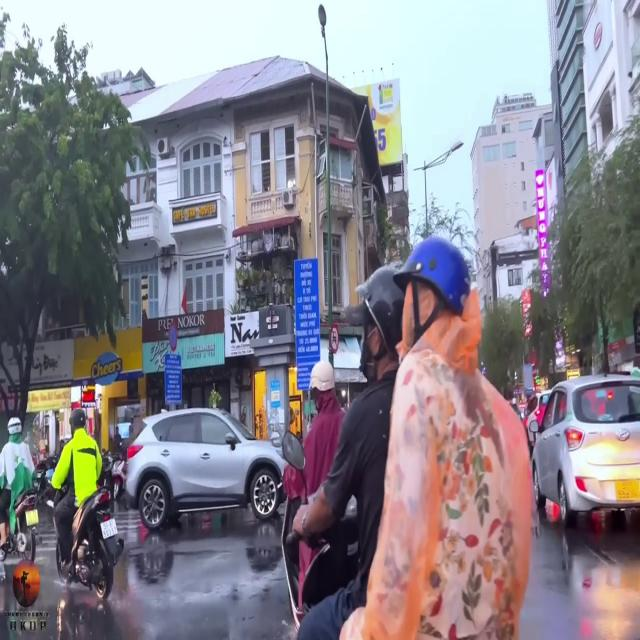bien_vang: (614, 477, 640, 501)
